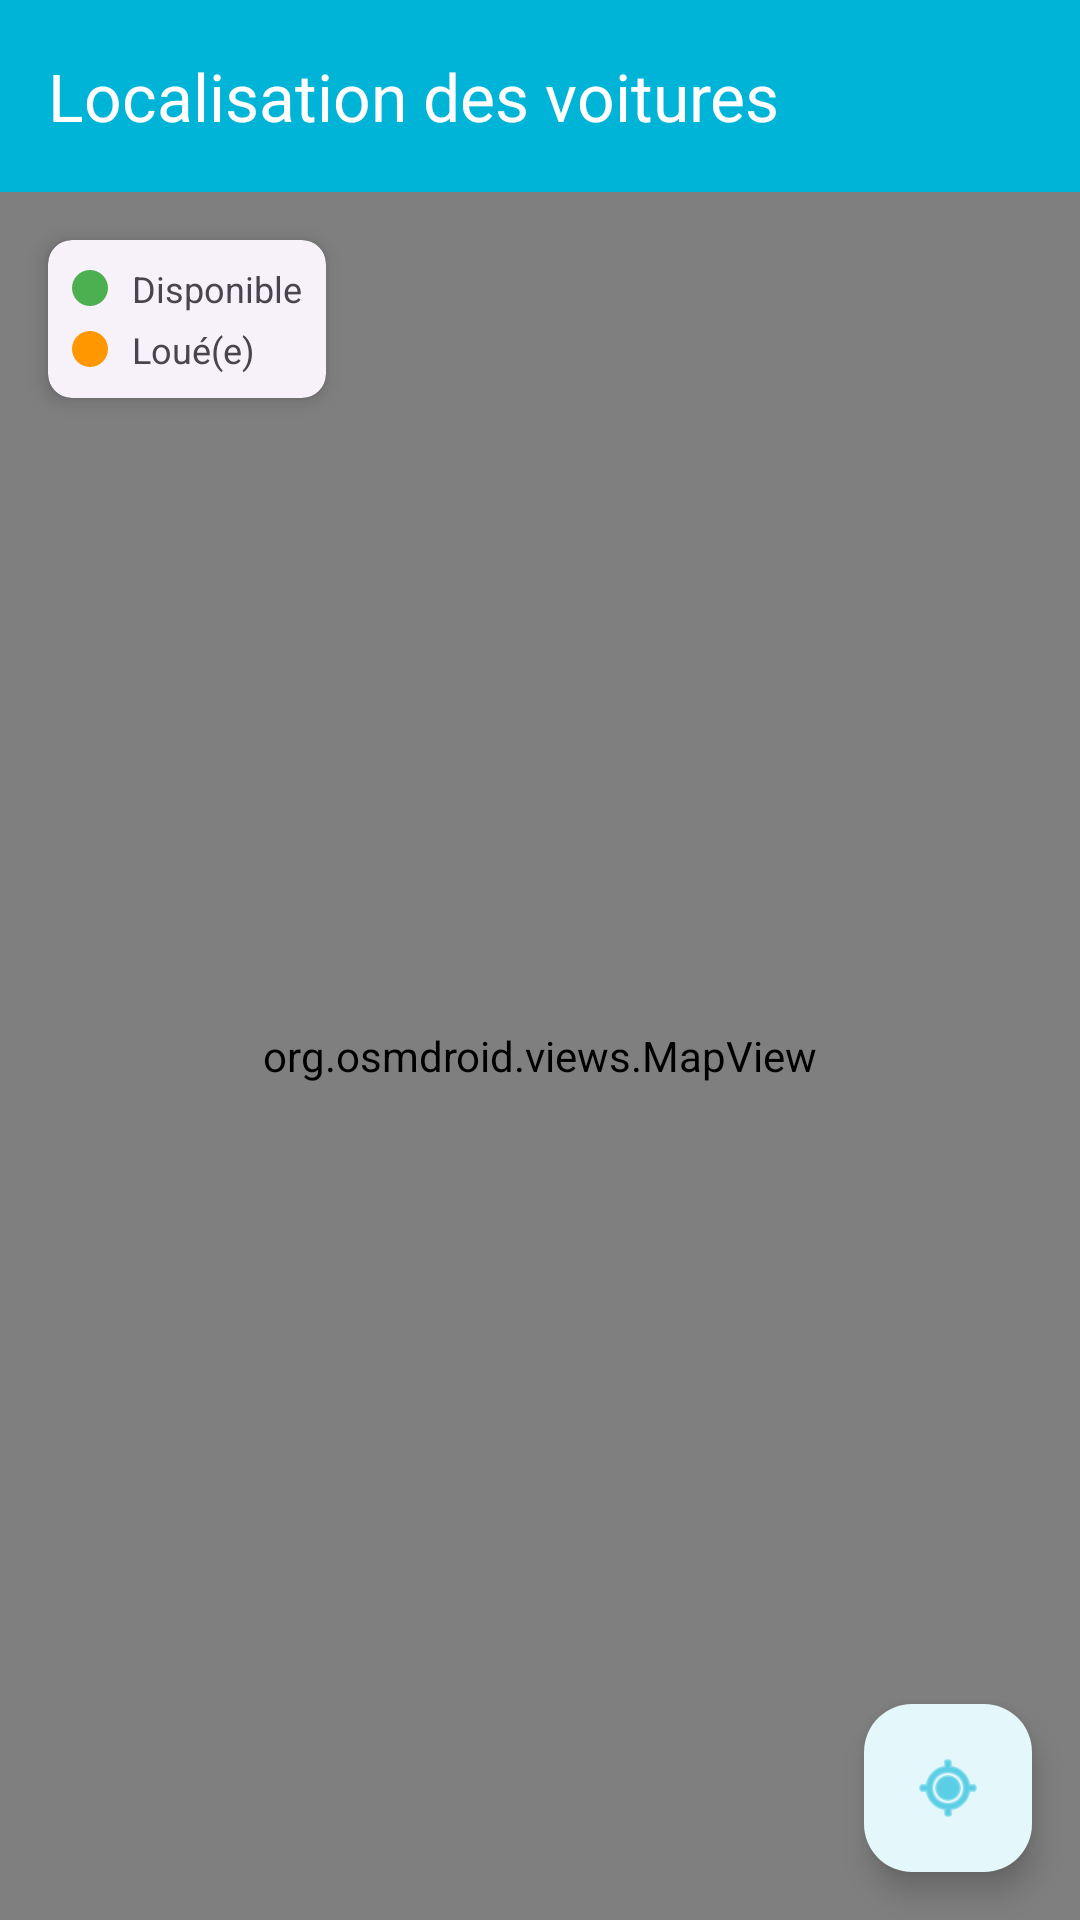

Icon click points for this 1080w x 1920h phone screenshot, format [x,y]:
mylocation: [948,1788]
